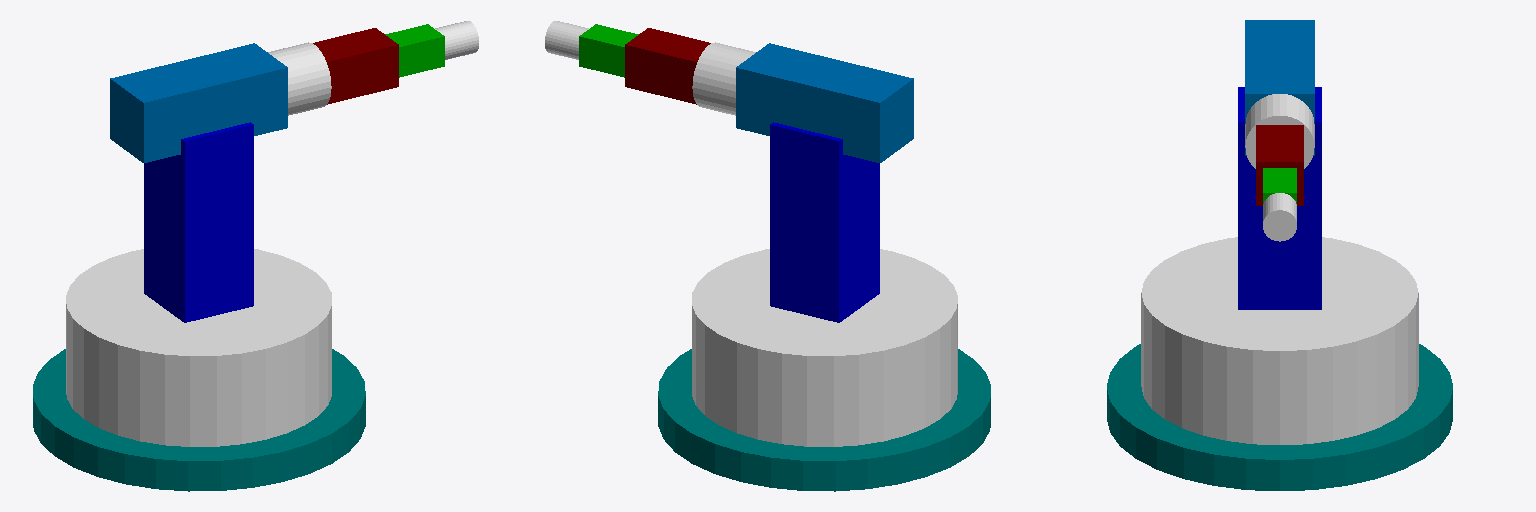
The robot description file, URDF, robot "6axis_robot":
<robot name="6axis_robot">

	<!-- * * * Link Definitions * * * -->

  	<link name="upper_base_link">
		<visual>
			<origin xyz="0 0 0" rpy="0 0 0"/>  <!-- 0 0 0.025 -->
			<geometry>
				<cylinder radius="0.25" length="0.05"/>
			</geometry>
	     	<material name="Cyan3">
				<color rgba="0 0.5 0.5 0"/>
			</material>
	   </visual>
	</link>

  	<link name="torso_link">
		<visual>
			<origin xyz="0 0 0.05" rpy="0 0 0"/>
			<geometry>
				<cylinder radius="0.2" length="0.15"/>
			</geometry>
	     	<material name="Grey2">
				<color rgba="0.9 0.9 0.9 1.0"/>
			</material>
	   </visual>
	</link>
	
	<link name="left_shoulder_link">
		<visual>
			<origin xyz="0 0 0" rpy="0 0 0"/>
			<geometry>
				<box size="0.05 0.05 0.1"/>
			</geometry>
	     	<material name="Green1">
				<color rgba="0 1 0 1.0"/>
			</material>
	   </visual>
	</link>
	
	<link name="left_shoulder_forward_link">
		<visual>
			<origin xyz="0 0 0" rpy="0 0 0"/>
			<geometry>
				<box size="0.12 0.12 0.45"/>
			</geometry>
	     	<material name="Blue1">
				<color rgba="0 0 0.8 1.0"/>
			</material>
	   </visual>
	</link>

	<link name="left_shoulder_up_link">
		<visual>
			<origin xyz="0 0 0" rpy="0 0 0"/>
			<geometry>
				<box size="0.1 0.1 0.25"/>
			</geometry>
	     	<material name="Purple1">
				<color rgba="0.5 0 0.5 0.5 1.0"/>
			</material>
	   </visual>
	</link>
	
	<link name="left_upper_arm_link">
		<visual>
			<origin xyz="0 0 0" rpy="0 0 0"/>
			<geometry>
				<cylinder radius="0.05" length="0.2"/>
			</geometry>
	     	<material name="Grey1">
				<color rgba="0.9 0.9 0.9 1.0"/>
			</material>
	   </visual>
	</link>
	
	<link name="left_elbow_link">
		<visual>
			<origin xyz="0 0 0" rpy="0 0 0"/>
			<geometry>
				<box size="0.07 0.07 0.25"/>
			</geometry>
	     	<material name="Red2">
				<color rgba="0.5 0 0 1.0"/>
			</material>
	   </visual>
	</link>
	
	<link name="left_wrist_link">
		<visual>
			<origin xyz="0 0 0" rpy="0 0 0"/>
			<geometry>
				<box size="0.05 0.05 0.18"/>
			</geometry>
	     	<material name="Green2">
				<color rgba="0 0.7 0 1.0"/>
			</material>
	   </visual>
	</link>
	
	<link name="left_hand_link">
		<visual>
			<origin xyz="0 0 0" rpy="0 0 0"/>
			<geometry>
				<cylinder radius="0.025" length="0.1"/>
			</geometry>
	     	<material name="Grey">
				<color rgba="0.9 0.9 0.9 1.0"/>
			</material>
	   </visual>
	</link>
    
	
	<!-- * * * Joint Definitions * * * -->

	<joint name="torso_joint" type="revolute">
    	<parent link="upper_base_link"/>
    	<child link="torso_link"/>
    	<origin xyz="0 0 0.05" rpy="0 0 0"/>
    	<axis xyz="0 0 1"/>
    	<limit lower="-2.88" upper="2.88" effort="10" velocity="3"/>
  	</joint>
	
 	<joint name="left_shoulder_joint" type="fixed">
    	<parent link="torso_link"/>
    	<child link="left_shoulder_link"/>
    	<origin xyz="0 0 0.1" rpy="0 0 0"/>
	</joint>
	
 	<joint name="left_shoulder_forward_joint" type="revolute">
    	<parent link="left_shoulder_link"/>
    	<child link="left_shoulder_forward_link"/>
    	<origin xyz="0 0 0.1" rpy="0 0 0"/>
       	<limit lower="-2.81" upper="1.48" effort="10" velocity="3"/>
        <axis xyz="0 1 0"/>
	</joint>
	
 	<joint name="left_shoulder_up_joint" type="revolute">
    	<parent link="left_shoulder_forward_link"/>
    	<child link="left_shoulder_up_link"/>
    	<origin xyz="0 0 0.25" rpy="0 1.57 0"/>
       	<limit lower="-0.96" upper="3.23" effort="10" velocity="3"/>
        <axis xyz="0 1 0"/>
	</joint>
	
 	<joint name="left_upper_arm_joint" type="fixed">
    	<parent link="left_shoulder_up_link"/>
    	<child link="left_upper_arm_link"/>
    	<origin xyz="0 0 0.1" rpy="0 0 0"/>
	</joint>
	
 	<joint name="left_elbow_joint" type="revolute">
    	<parent link="left_upper_arm_link"/>
    	<child link="left_elbow_link"/>
    	<origin xyz="0 0 0.1" rpy="0 0 0"/>
       	<limit lower="-2.01" upper="2.01" effort="10" velocity="3"/>
        <axis xyz="0 0 1"/>
	</joint>

 	<joint name="left_wrist_joint" type="revolute">
    	<parent link="left_elbow_link"/>
    	<child link="left_wrist_link"/>
    	<origin xyz="0 0 0.12" rpy="0 0 0"/>
       	<limit lower="-2.01" upper="2.01" effort="10" velocity="3"/>
        <axis xyz="0 1 0"/>
	</joint>
	
 	<joint name="left_hand_joint" type="revolute">
    	<parent link="left_wrist_link"/>
    	<child link="left_hand_link"/>
    	<origin xyz="0 0 0.1" rpy="0 0 0"/>
        <limit lower="-6.28" upper="6.28" effort="10" velocity="3"/>
        <axis xyz="0 0 1"/>
	</joint>
 
</robot>

--- Facts derived from the render (not from the file) ---
3 views of the same robot in one strip: view 1: azimuth 30°, elevation 25°; view 2: azimuth 150°, elevation 25°; view 3: azimuth 270°, elevation 25° (orthographic).
Model 6axis_robot with 9 links and 8 joints (6 revolute, 2 fixed), rooted at upper_base_link, posed all joints at 0.
Links seen in each view (by area): view 1: torso_link, left_shoulder_forward_link, upper_base_link, left_shoulder_up_link, left_elbow_link, left_upper_arm_link, left_wrist_link, left_hand_link; view 2: torso_link, left_shoulder_forward_link, upper_base_link, left_shoulder_up_link, left_elbow_link, left_upper_arm_link, left_wrist_link, left_hand_link; view 3: torso_link, upper_base_link, left_shoulder_forward_link, left_shoulder_up_link, left_elbow_link, left_upper_arm_link, left_hand_link, left_wrist_link.
Link boxes in pixels (x1,y1,x2,y2): torso_link: (66,249,331,446); left_shoulder_forward_link: (144,122,253,322); upper_base_link: (33,349,365,491); left_shoulder_up_link: (110,43,287,162); left_elbow_link: (313,28,398,104); left_upper_arm_link: (268,42,331,115); left_wrist_link: (385,24,444,77); left_hand_link: (435,21,478,59); torso_link: (692,249,957,446); left_shoulder_forward_link: (770,122,879,322); upper_base_link: (658,349,990,491); left_shoulder_up_link: (736,43,913,162); left_elbow_link: (625,28,710,104); left_upper_arm_link: (692,42,755,115); left_wrist_link: (579,24,638,77); left_hand_link: (545,21,588,59); torso_link: (1141,237,1418,444); upper_base_link: (1107,344,1452,490); left_shoulder_forward_link: (1238,87,1321,309); left_shoulder_up_link: (1245,20,1314,155); left_elbow_link: (1256,125,1303,205); left_upper_arm_link: (1245,94,1314,168); left_hand_link: (1263,193,1296,241); left_wrist_link: (1263,168,1296,203).
Size in the robot's own frame: 0.72 by 0.5 by 0.5752 metres.
Geometry: primitives only (box / cylinder / sphere), no mesh files.